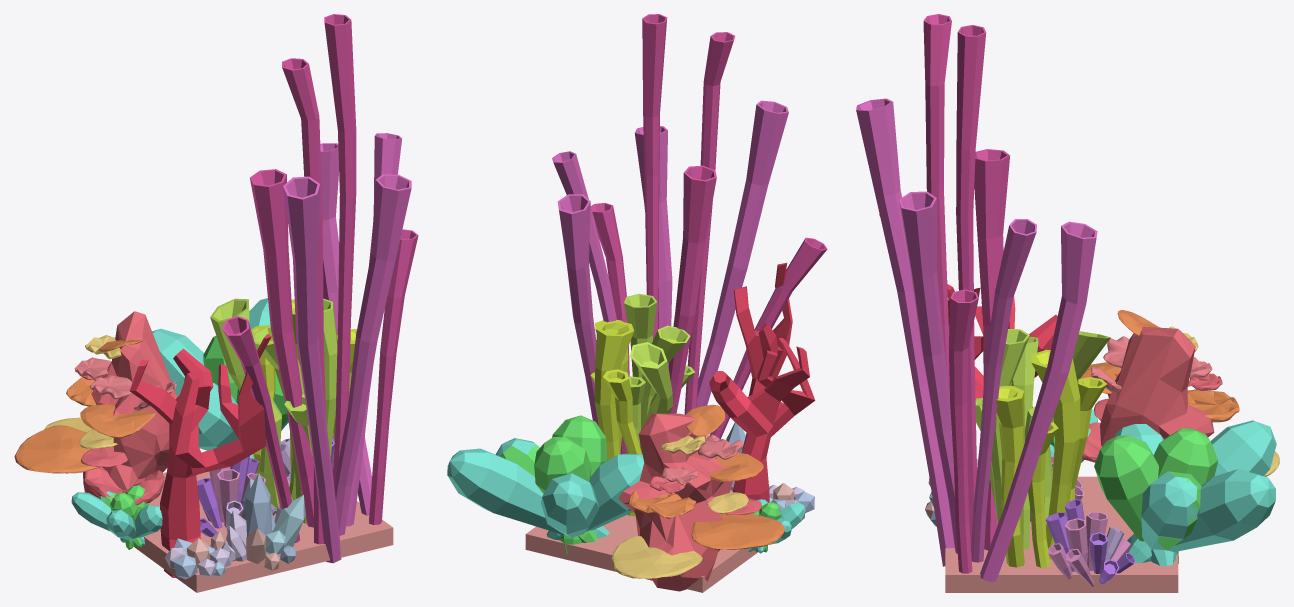
File: reef3.fbx
3 renders of one model, left to right at view 1: azimuth 30°, elevation 25°; view 2: azimuth 150°, elevation 25°; view 3: azimuth 270°, elevation 25°, orthographic. The views are drawn at different scales.
Visible parts, largest first — view 1: reef_block_3; view 2: reef_block_3; view 3: reef_block_3.
Part boxes in pixels (box(x1,y1,x2,y2)): reef_block_3: box(14, 14, 418, 592); reef_block_3: box(447, 14, 827, 592); reef_block_3: box(856, 14, 1279, 592).
Bounding box in the file's own units: 18.16 × 29.21 × 20.41.
